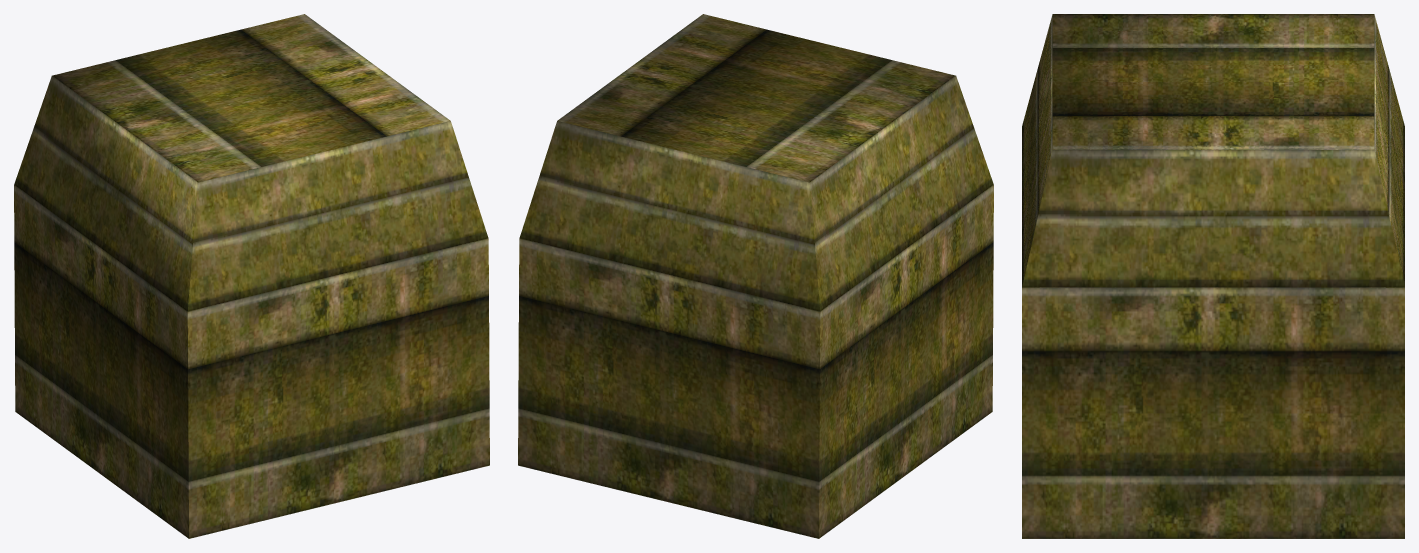
The model's file is OVERHILL_A_01_OBJECT236.fbx.
3 views of the same model, side by side, from view 1: azimuth 30°, elevation 25°; view 2: azimuth 150°, elevation 25°; view 3: azimuth 270°, elevation 25° (orthographic). The views are drawn at different scales.
Parts seen in each view (by area): view 1: OVERHILL_A_01_OBJECT236; view 2: OVERHILL_A_01_OBJECT236; view 3: OVERHILL_A_01_OBJECT236.
Part boxes in pixels (left/top/right/bottom): OVERHILL_A_01_OBJECT236: left=14, top=14, right=489, bottom=538; OVERHILL_A_01_OBJECT236: left=518, top=14, right=993, bottom=538; OVERHILL_A_01_OBJECT236: left=1022, top=14, right=1404, bottom=538.
Size of the model in its own units: 11476 by 12361 by 11426.
2 materials, 2 textured.
